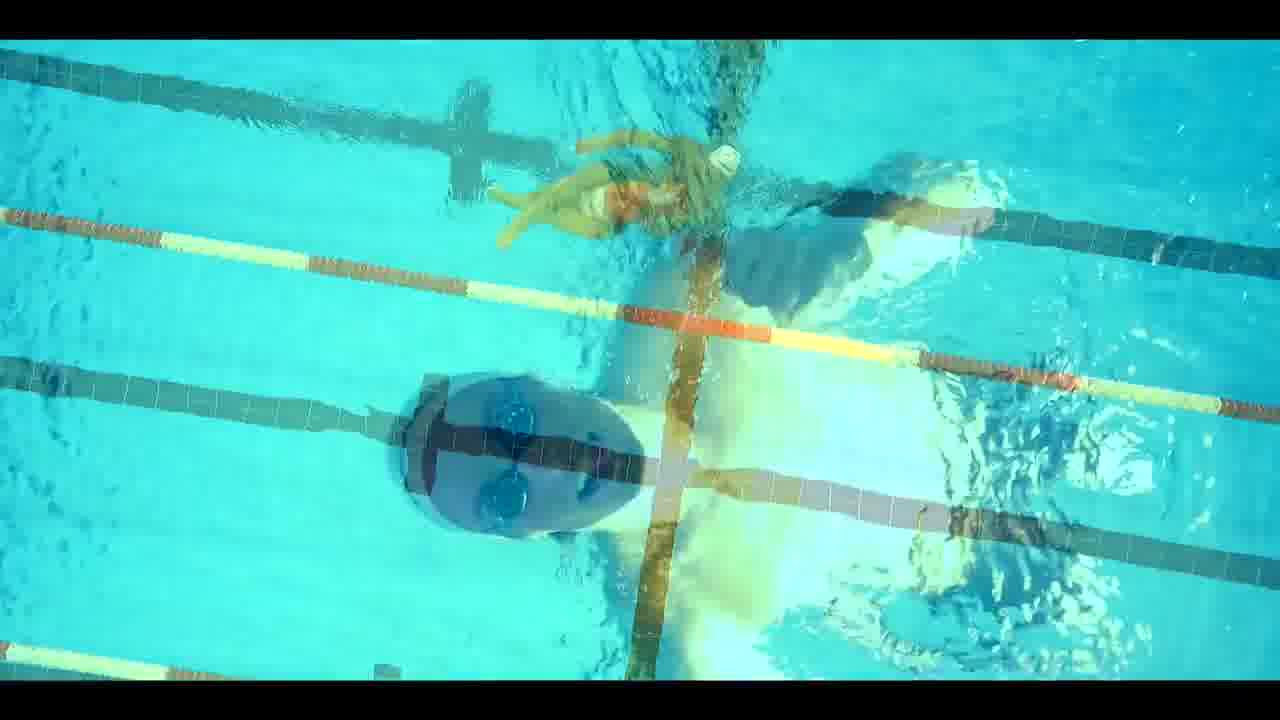swimmer: (388, 223, 1131, 665), (480, 147, 758, 253)
